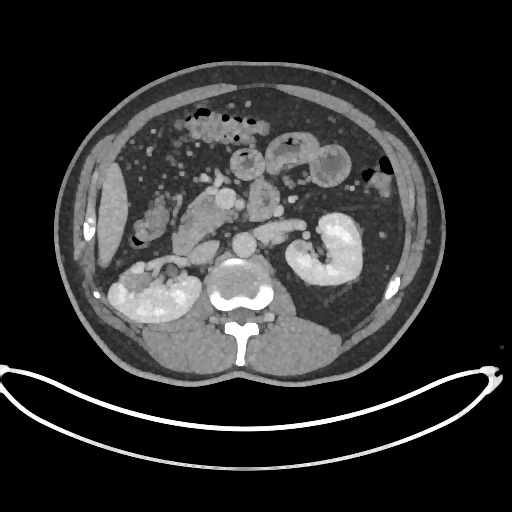Lesion: (118, 267, 154, 294)
